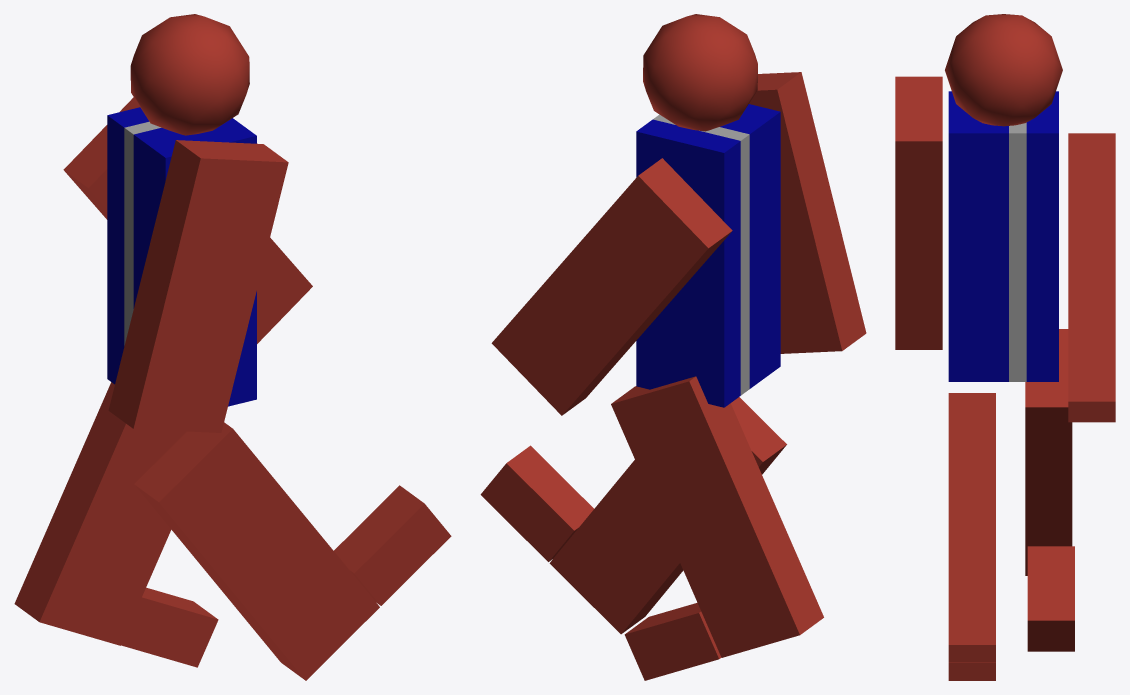
Rendered from player_000018.obj.
3 views of the same model, side by side, from view 1: azimuth 30°, elevation 25°; view 2: azimuth 150°, elevation 25°; view 3: azimuth 270°, elevation 25° (orthographic). The views are drawn at different scales.
Visible parts, largest first — view 1: Cube.005, Cube.001, Cube.002, Cube, Icosphere, Cube.003, Cube.006, Cube.004; view 2: Cube.002, Cube, Cube.006, Cube.005, Cube.001, Icosphere, Cube.003, Cube.004; view 3: Cube, Cube.006, Cube.005, Cube.001, Icosphere, Cube.002, Cube.004, Cube.003.
Boxes of the visible parts, left/top/right/bottom form: Cube.005: left=108, top=140, right=288, bottom=432; Cube.001: left=134, top=422, right=379, bottom=680; Cube.002: left=14, top=382, right=186, bottom=645; Cube: left=107, top=107, right=256, bottom=406; Icosphere: left=130, top=14, right=249, bottom=135; Cube.003: left=334, top=485, right=451, bottom=605; Cube.006: left=63, top=97, right=312, bottom=343; Cube.004: left=121, top=587, right=218, bottom=667; Cube.002: left=611, top=376, right=823, bottom=657; Cube: left=636, top=104, right=780, bottom=407; Cube.006: left=491, top=158, right=732, bottom=415; Cube.005: left=749, top=72, right=866, bottom=353; Cube.001: left=549, top=397, right=786, bottom=634; Icosphere: left=643, top=14, right=757, bottom=131; Cube.003: left=480, top=445, right=593, bottom=561; Cube.004: left=624, top=602, right=721, bottom=680; Cube: left=948, top=91, right=1058, bottom=381; Cube.006: left=1068, top=133, right=1115, bottom=422; Cube.005: left=895, top=76, right=942, bottom=349; Cube.001: left=948, top=393, right=995, bottom=680; Icosphere: left=945, top=14, right=1062, bottom=126; Cube.002: left=1025, top=329, right=1072, bottom=575; Cube.004: left=1027, top=546, right=1074, bottom=651; Cube.003: left=948, top=595, right=995, bottom=662.
Bounding box in the file's own units: 1.68 × 2.86 × 0.9137.
